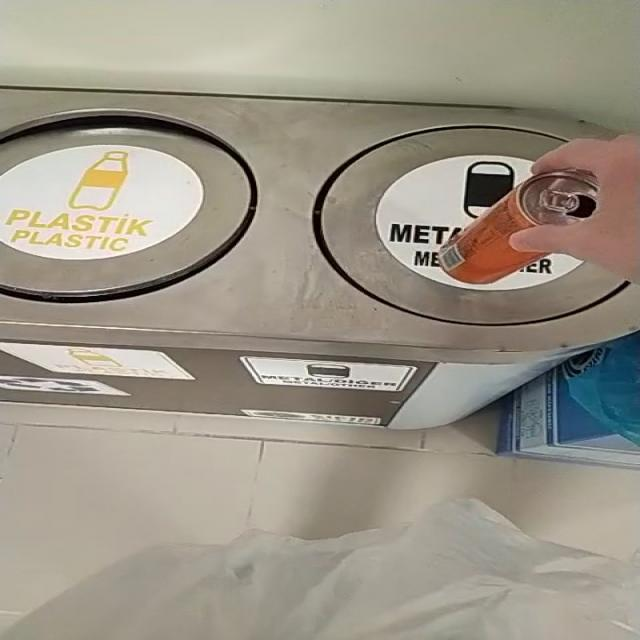bin: (0, 88, 639, 431)
metal: (440, 171, 600, 283)
